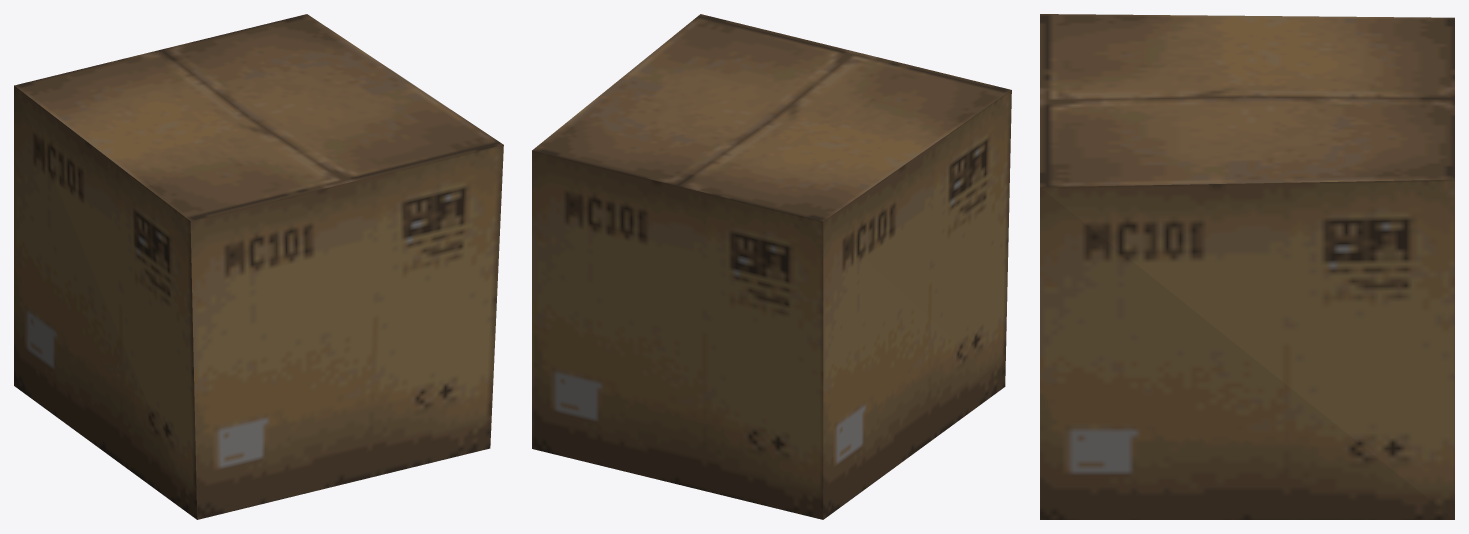
The model's file is Cardboard Box.obj.
3 views of the same model, side by side, from view 1: azimuth 30°, elevation 25°; view 2: azimuth 150°, elevation 25°; view 3: azimuth 270°, elevation 25° (orthographic). The views are drawn at different scales.
Size of the model in its own units: 0.9952 by 0.9117 by 1.01.
Materials: 1 (1 with a texture image).
